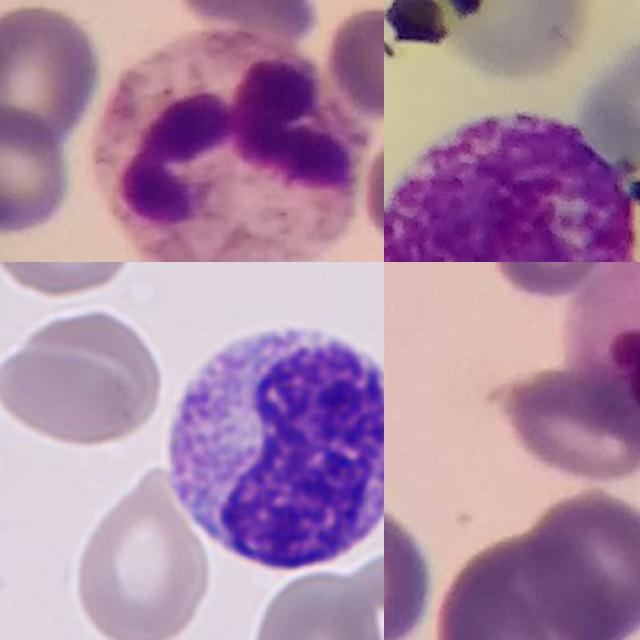Basophil: (384, 107, 640, 262)
Lymphocyte: (154, 309, 384, 583)
Monocyte: (578, 262, 640, 640)
Neutrophil: (96, 26, 364, 262)
RBC: (69, 461, 215, 640), (0, 342, 146, 451), (245, 563, 375, 640), (0, 262, 149, 300), (327, 545, 384, 640)
